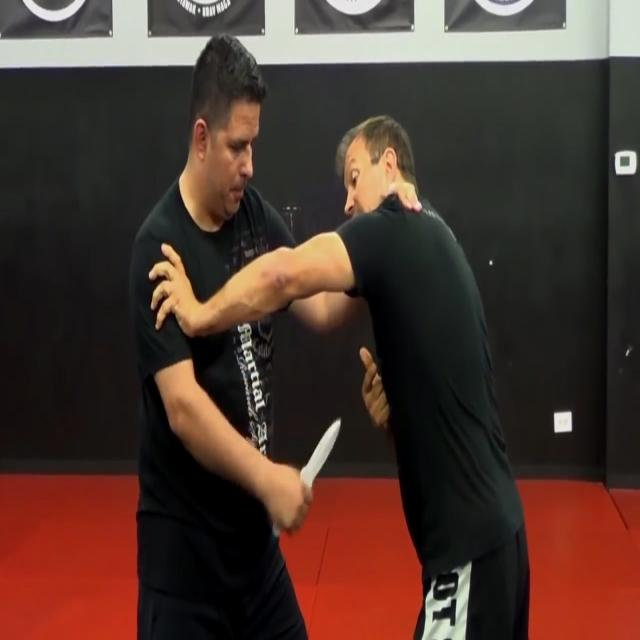knife: (299, 419, 349, 493)
